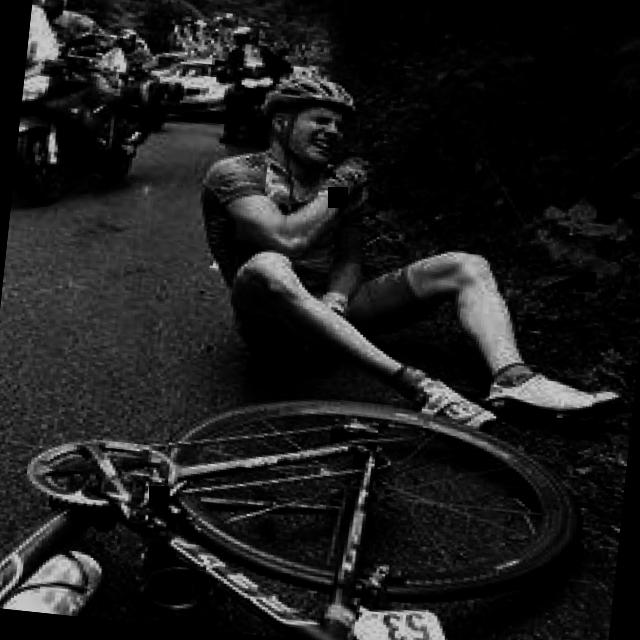Fall-Detected: (161, 46, 640, 458)
